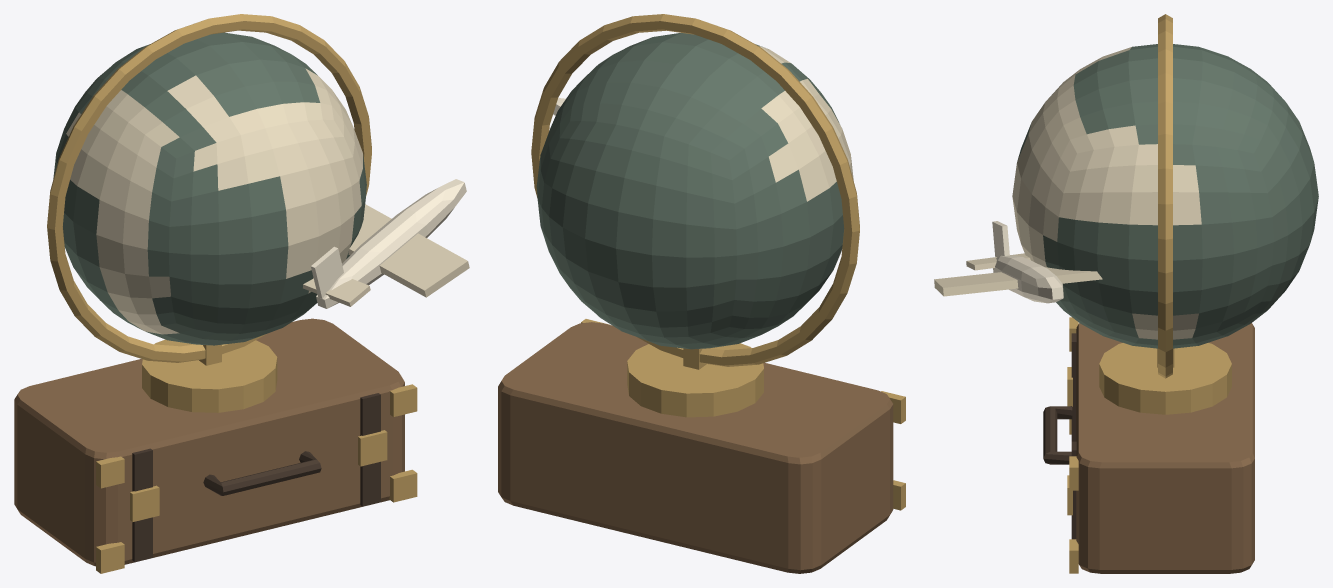
Rendered from 09_International_Globe.fbx.
3 renders of one model, left to right at view 1: azimuth 30°, elevation 25°; view 2: azimuth 150°, elevation 25°; view 3: azimuth 270°, elevation 25°, orthographic. The views are drawn at different scales.
Visible parts, largest first — view 1: 09_International_Globe__Globe, 09_International_Globe__Body, 09_International_Globe__Airplane; view 2: 09_International_Globe__Globe, 09_International_Globe__Body; view 3: 09_International_Globe__Globe, 09_International_Globe__Body, 09_International_Globe__Airplane.
Boxes of the visible parts, bbox=[...] form: 09_International_Globe__Globe: bbox=[47, 14, 371, 412]; 09_International_Globe__Body: bbox=[14, 318, 417, 573]; 09_International_Globe__Airplane: bbox=[303, 179, 469, 308]; 09_International_Globe__Globe: bbox=[531, 14, 859, 417]; 09_International_Globe__Body: bbox=[498, 319, 905, 573]; 09_International_Globe__Globe: bbox=[1012, 14, 1318, 414]; 09_International_Globe__Body: bbox=[1043, 317, 1254, 573]; 09_International_Globe__Airplane: bbox=[934, 221, 1102, 303].
Bounding box in the file's own units: 257 × 327 × 244.
Materials: 2 (2 with a texture image).
